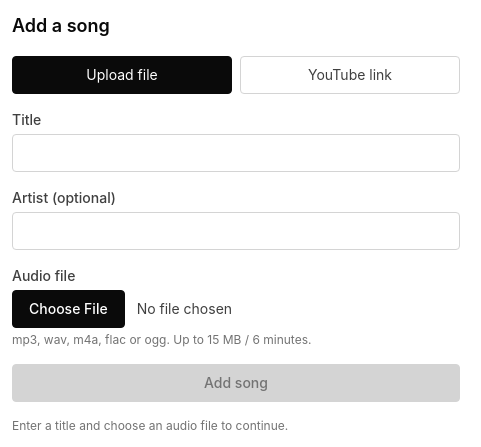
Test case: AddSongForm › explains why Add song is disabled for a YouTube link with no URL yet
Click the radio button labelled "YouTube link" at (350,75), box [240, 56, 460, 94]
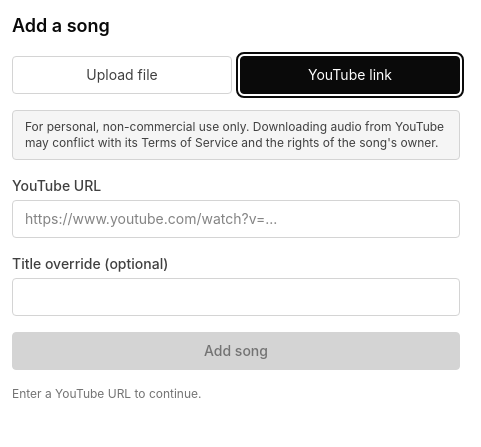
Expected: the button "Add song" is disabled, [12, 332, 460, 370]
Expected: the text "Enter a YouTube URL to continue." is shown, [12, 386, 202, 401]
